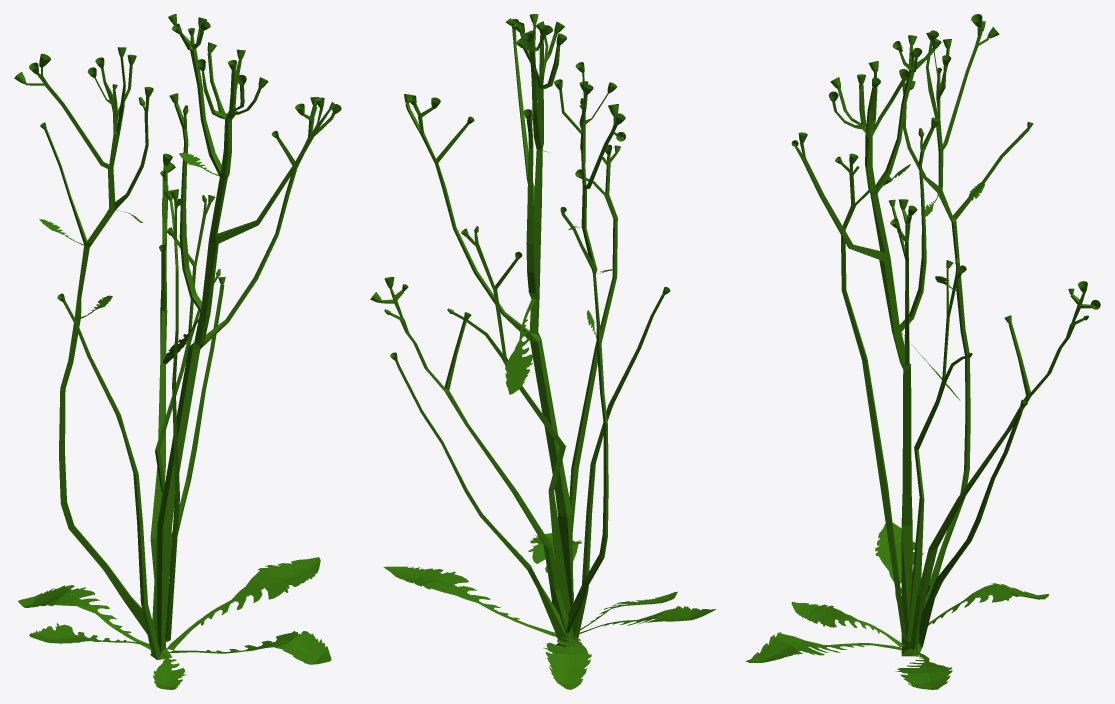
File: 1weed.fbx
3 renders of one model, left to right at view 1: azimuth 30°, elevation 25°; view 2: azimuth 150°, elevation 25°; view 3: azimuth 270°, elevation 25°, orthographic.
Visible parts, largest first — view 1: Object_2; view 2: Object_2; view 3: Object_2.
Boxes of the visible parts, x1,y1,x2,y2 form: Object_2: (14, 14, 341, 689); Object_2: (370, 14, 715, 689); Object_2: (745, 14, 1100, 689).
Size of the model in its own units: 272 by 521 by 267.
